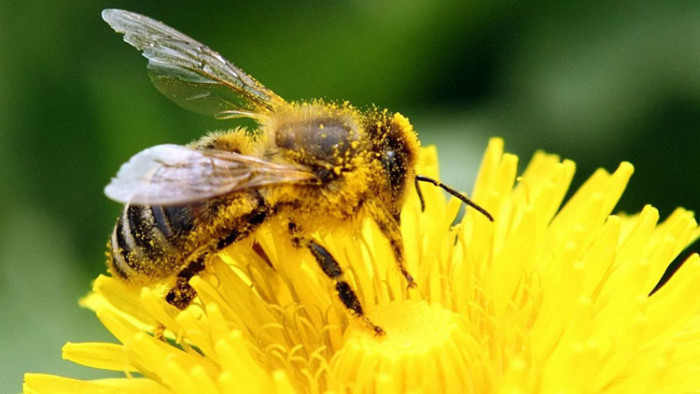bee: (82, 6, 516, 360)
